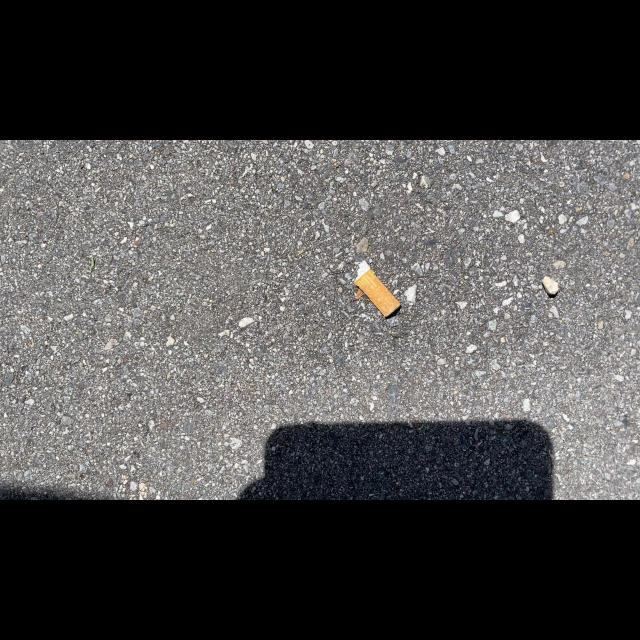cigarette: (354, 260, 401, 318)
